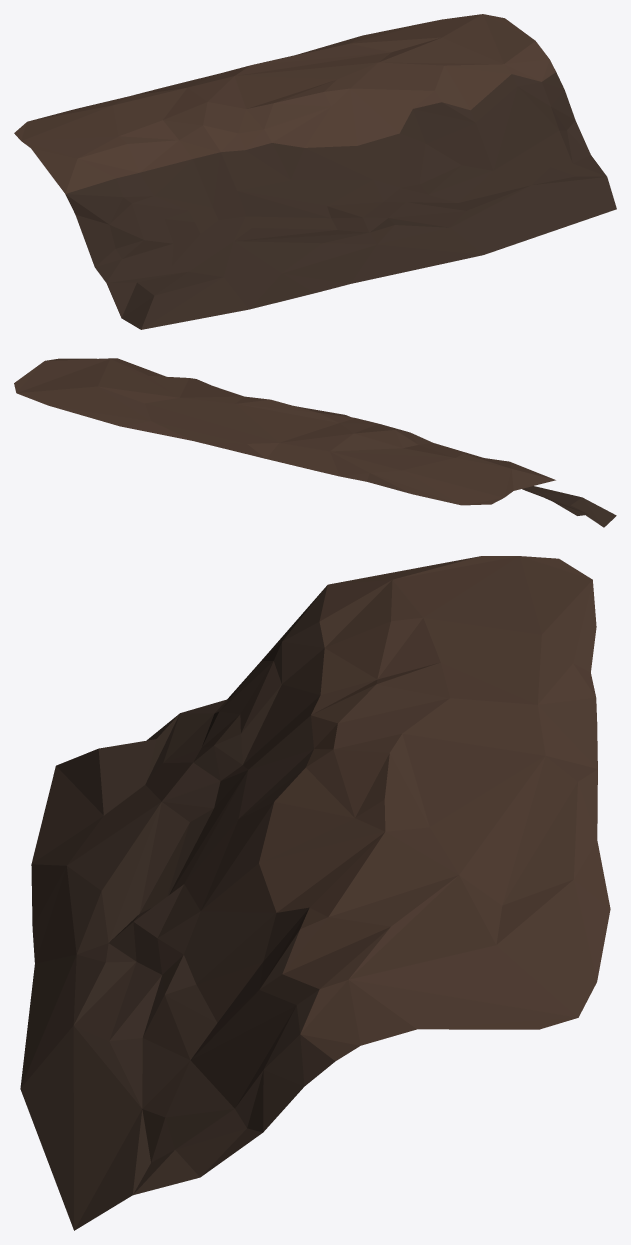
3 renders of one model, top to bottom at view 1: azimuth 30°, elevation 25°; view 2: azimuth 150°, elevation 25°; view 3: azimuth 270°, elevation 25°, orthographic. The views are drawn at different scales.
Parts seen in each view (by area): view 1: SM_Terrain_RiverSide_01; view 2: SM_Terrain_RiverSide_01; view 3: SM_Terrain_RiverSide_01.
Boxes of the visible parts, x1=… form: SM_Terrain_RiverSide_01: x1=14, y1=14, x2=616, y2=329; SM_Terrain_RiverSide_01: x1=14, y1=358, x2=616, y2=527; SM_Terrain_RiverSide_01: x1=20, y1=556, x2=610, y2=1230.
Size of the model in its own units: 8.66 by 1.93 by 4.51.
1 material, 1 textured.
